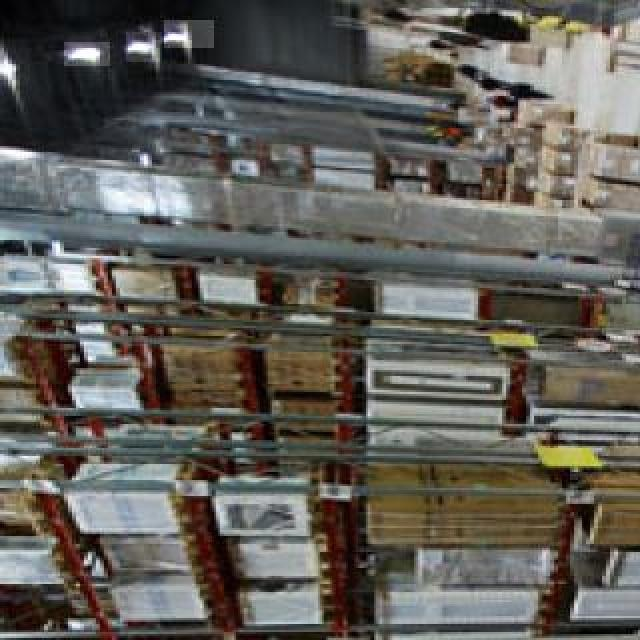fluorescent tube: (51, 34, 104, 66), (120, 40, 156, 75), (162, 20, 193, 45)
